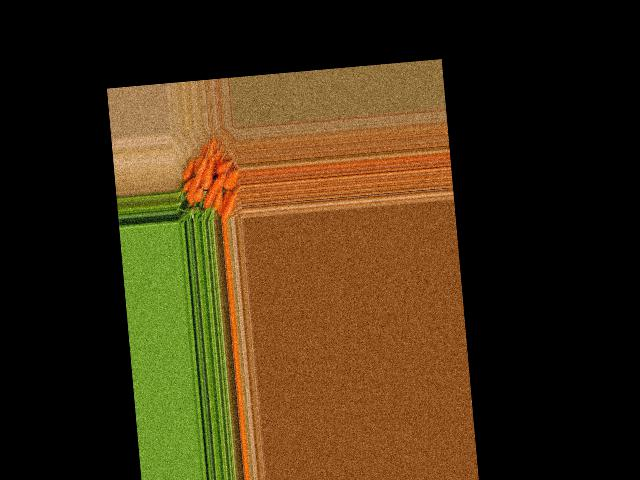carrot: (179, 174, 195, 190)
